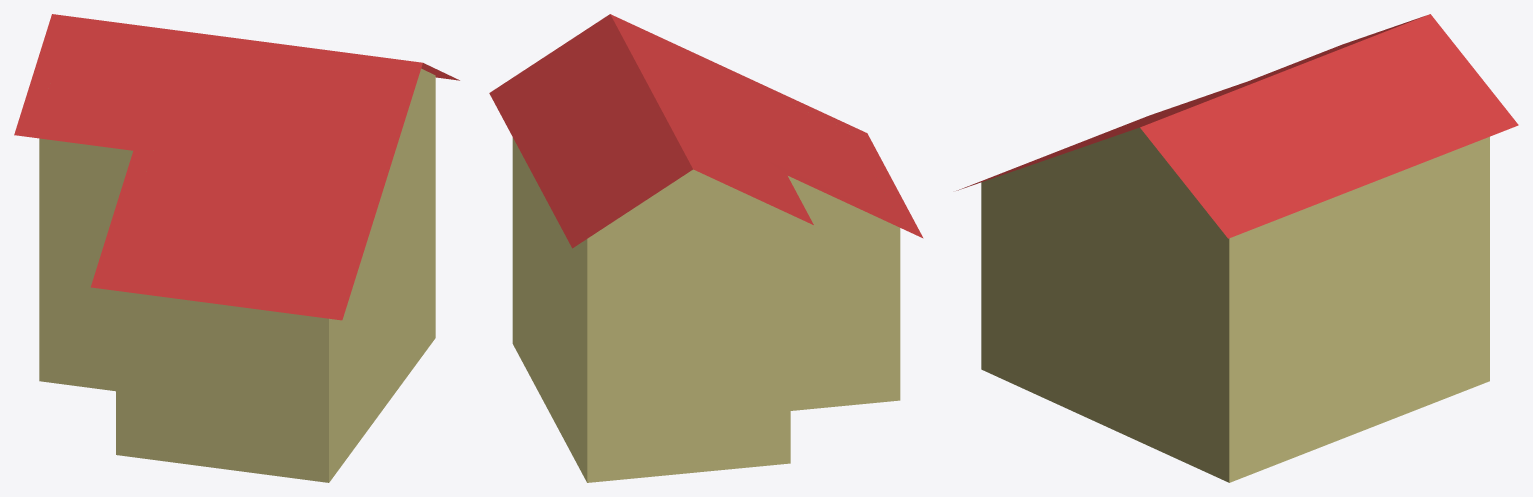
3 renders of one model, left to right at view 1: azimuth 30°, elevation 25°; view 2: azimuth 150°, elevation 25°; view 3: azimuth 270°, elevation 25°, orthographic. The views are drawn at different scales.
Bounding box in the file's own units: 11.69 × 13.78 × 8.78.
